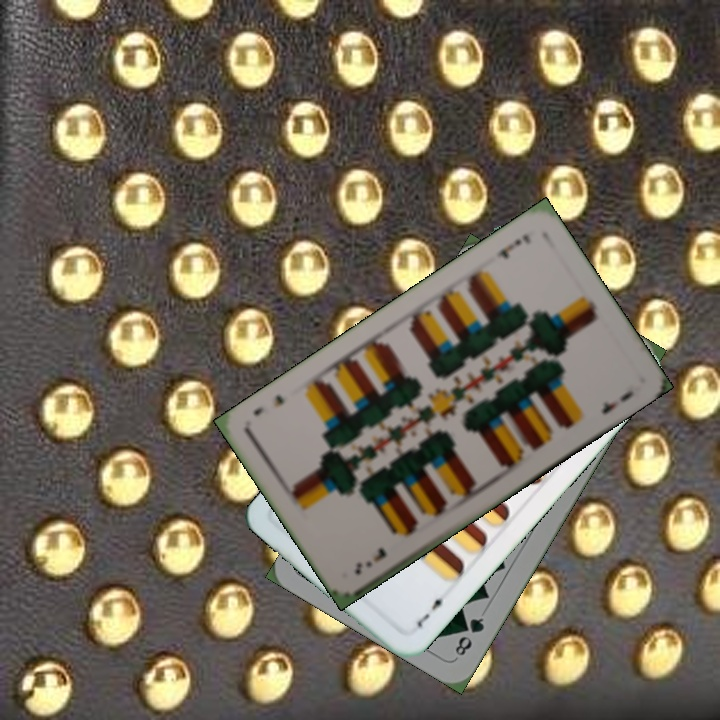E7: (412, 590, 451, 630), (350, 543, 389, 578), (492, 230, 534, 262)
G8: (450, 613, 487, 659)
